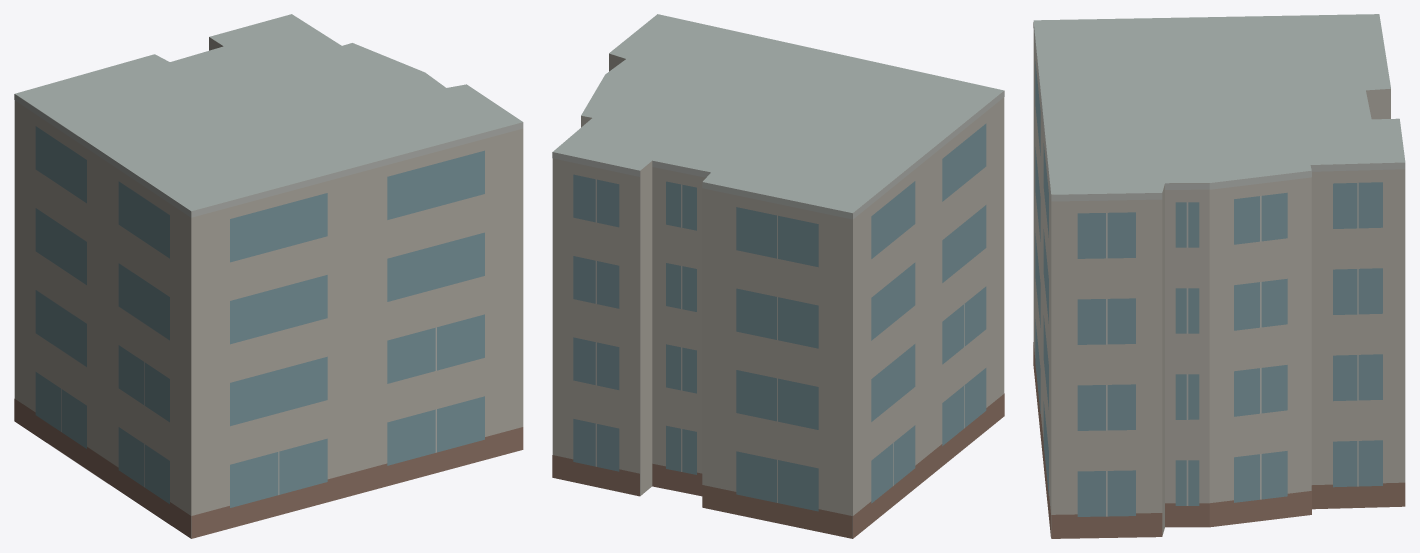
The model's file is survey-upis-32734841.glb.
3 views of the same model, side by side, from view 1: azimuth 30°, elevation 25°; view 2: azimuth 150°, elevation 25°; view 3: azimuth 270°, elevation 25° (orthographic). The views are drawn at different scales.
Parts seen in each view (by area): view 1: survey-upis-32734841.tmp; view 2: survey-upis-32734841.tmp; view 3: survey-upis-32734841.tmp.
Part boxes in pixels (bbox=[...]): survey-upis-32734841.tmp: bbox=[14, 14, 523, 538]; survey-upis-32734841.tmp: bbox=[552, 14, 1004, 538]; survey-upis-32734841.tmp: bbox=[1033, 14, 1405, 538].
Bounding box in the file's own units: 14.09 × 12.5 × 12.26.
